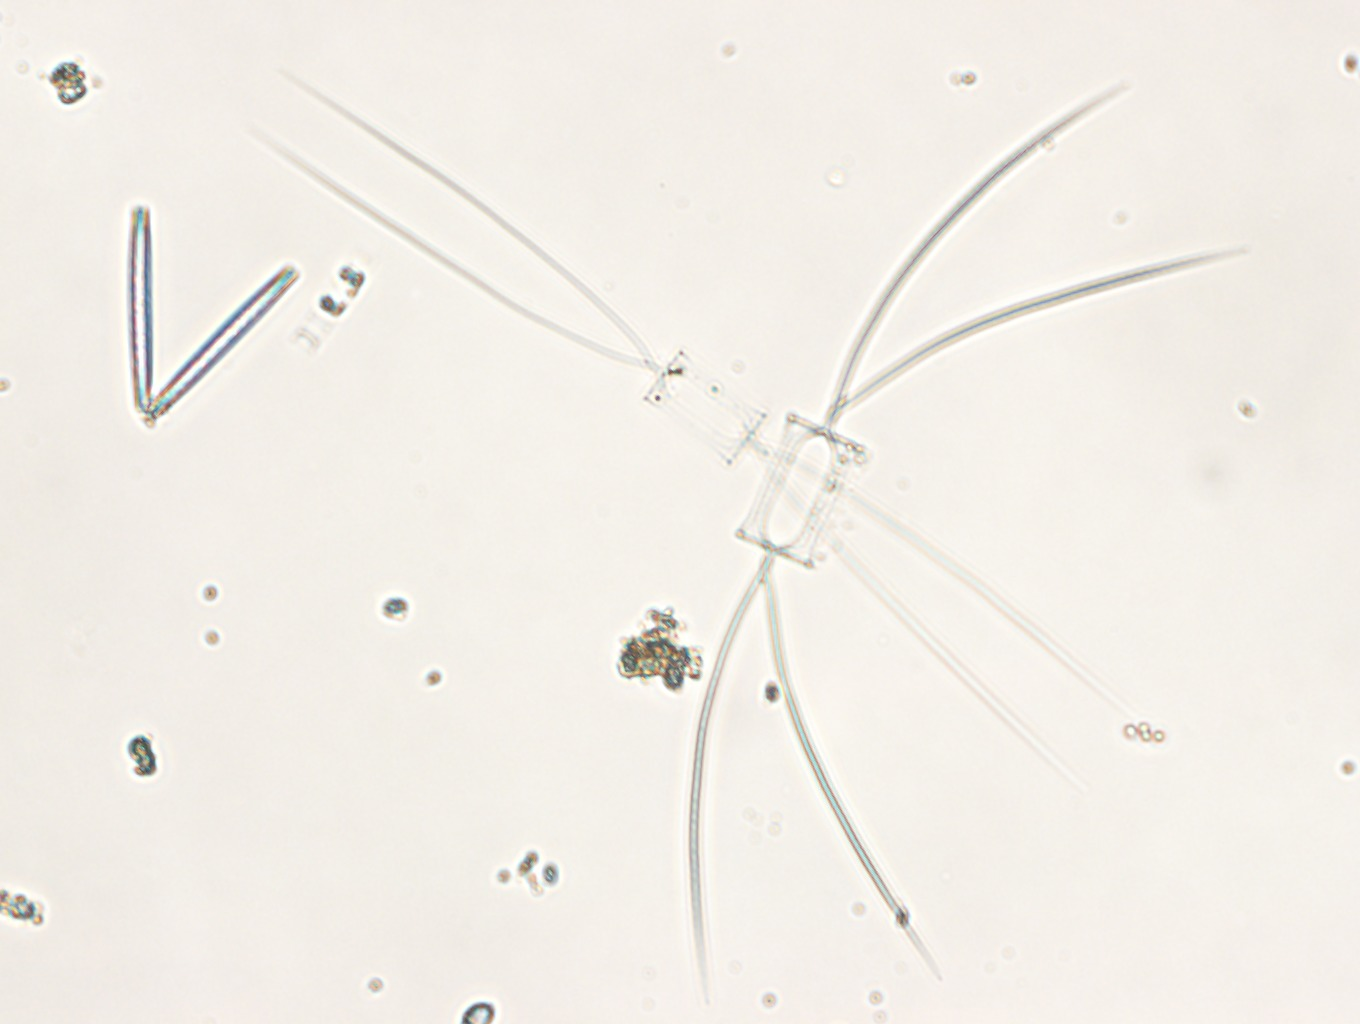chaetoceros: (259, 63, 1110, 765), (692, 84, 1246, 959)
thalassionema nitzschioides: (123, 204, 299, 419)
